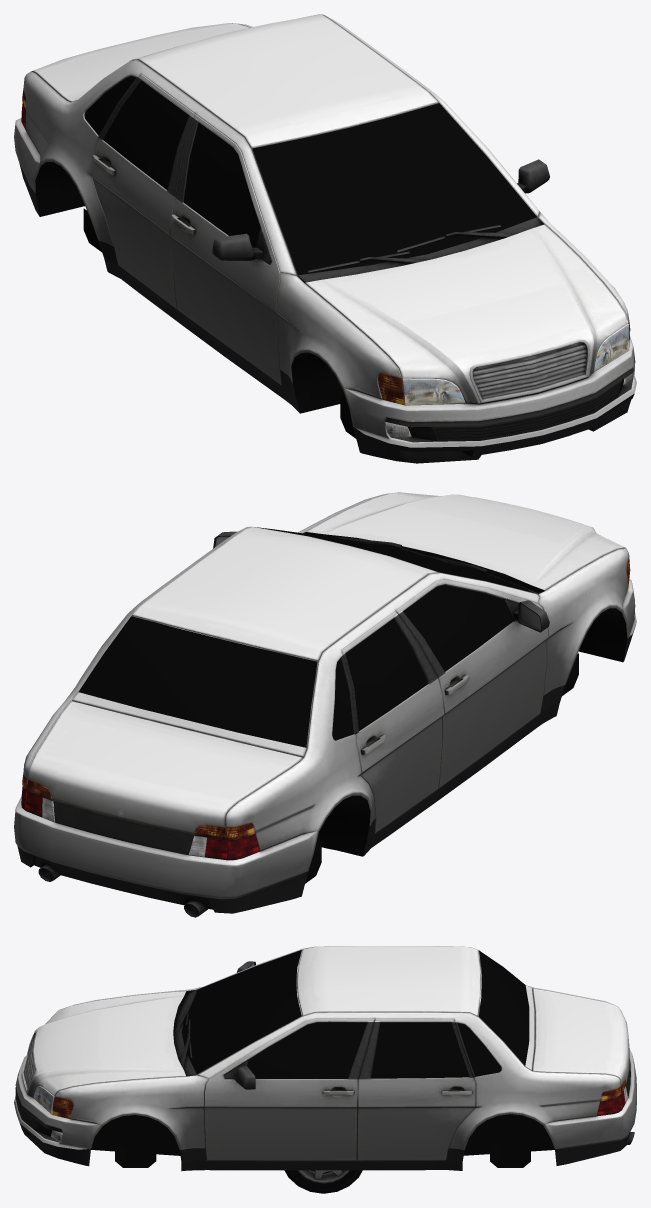
The model's file is gen-sedan.lod.glb.
The picture shows the model from 3 angles, top to bottom: view 1: azimuth 30°, elevation 25°; view 2: azimuth 150°, elevation 25°; view 3: azimuth 270°, elevation 25°; orthographic projection. The views are drawn at different scales.
Parts seen in each view (by area): view 1: body; view 2: body; view 3: body, wheel.
Boxes of the visible parts, left/top/right/bottom form: body: left=14, top=14, right=636, bottom=463; body: left=14, top=492, right=636, bottom=917; body: left=14, top=946, right=636, bottom=1171; wheel: left=284, top=1170, right=362, bottom=1193.
Bounding box in the file's own units: 1.94 × 1.65 × 4.36.
6 materials, 5 textured.
